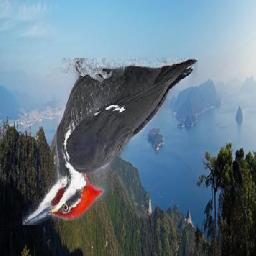Woodpecker: (22, 59, 198, 226)
